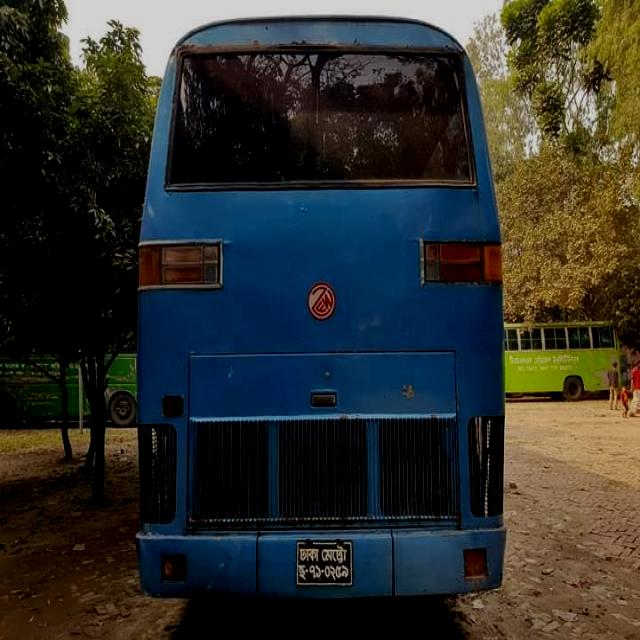bus: (135, 18, 508, 599)
